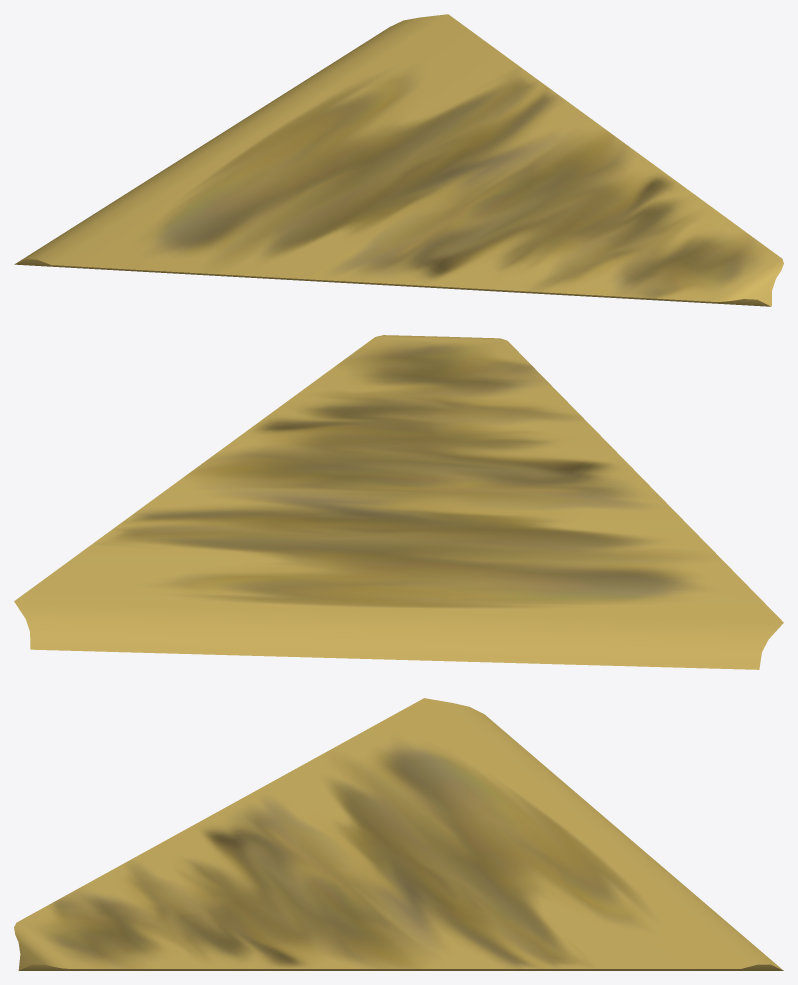
File: PathCornerV2.fbx
3 renders of one model, top to bottom at view 1: azimuth 30°, elevation 25°; view 2: azimuth 150°, elevation 25°; view 3: azimuth 270°, elevation 25°, orthographic. The views are drawn at different scales.
Visible parts, largest first — view 1: PathCornerV2; view 2: PathCornerV2; view 3: PathCornerV2.
Part boxes in pixels (bbox=[...]): PathCornerV2: bbox=[14, 14, 783, 306]; PathCornerV2: bbox=[14, 335, 783, 669]; PathCornerV2: bbox=[14, 698, 783, 970].
Bounding box in the file's own units: 297 × 10 × 352.
1 material, 1 textured.
